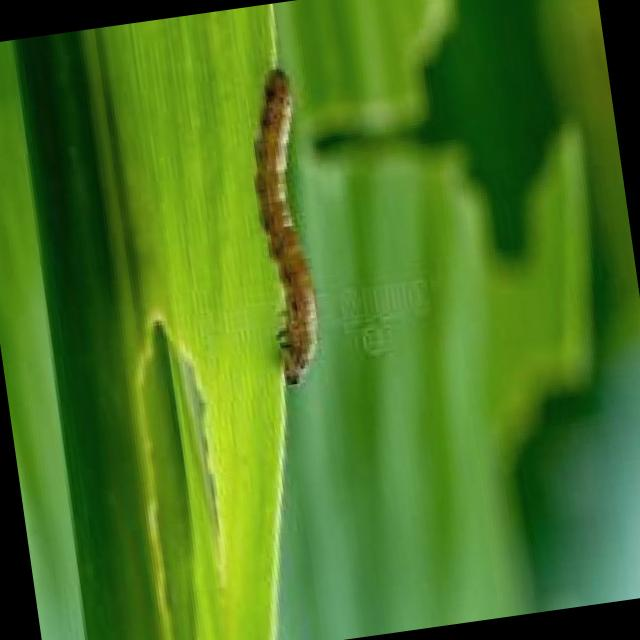pest: (245, 78, 332, 382)
